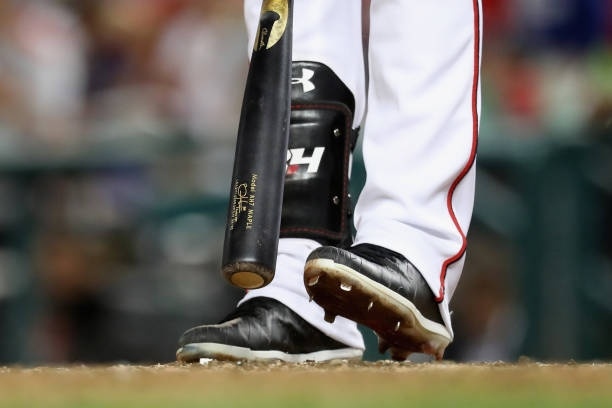bita: (216, 2, 295, 288)
